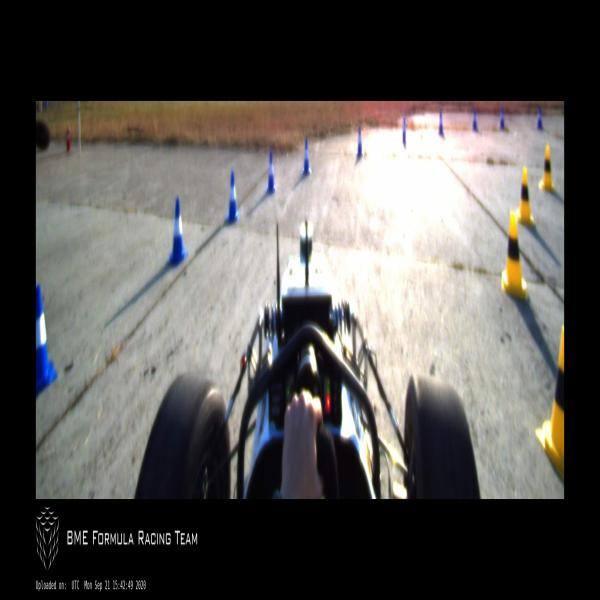blue_cone: (36, 285, 57, 400), (167, 196, 187, 267), (225, 172, 239, 222), (265, 151, 276, 193), (302, 138, 312, 174), (356, 126, 363, 157), (438, 111, 444, 135), (499, 107, 505, 128), (402, 116, 406, 144), (537, 106, 542, 128), (472, 109, 477, 130)
yellow_cone: (535, 327, 564, 483), (501, 209, 527, 298), (514, 166, 534, 226), (539, 145, 554, 192)
